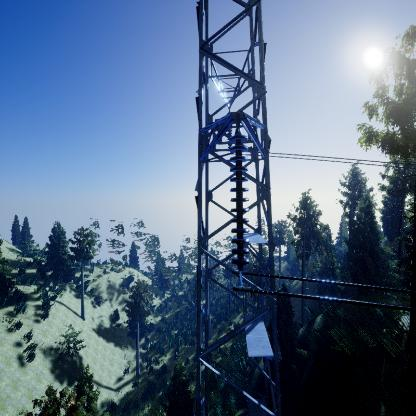insulator: (225, 130, 255, 271)
